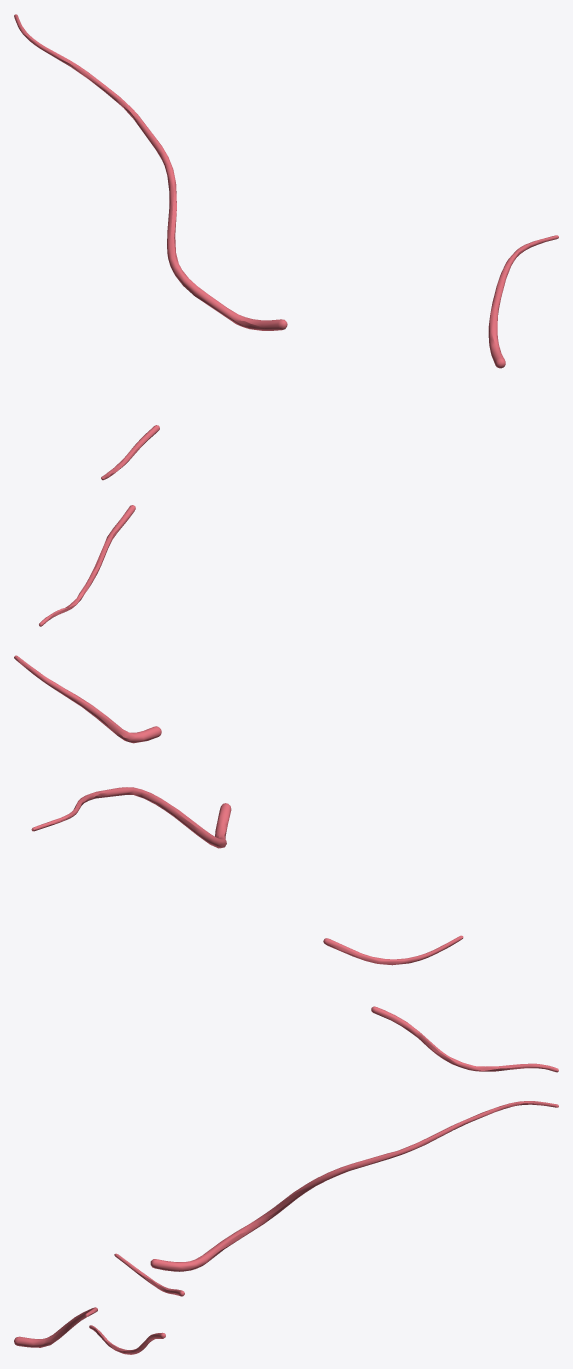
File: fma70445_fj3115.glb
The picture shows the model from 3 angles, top to bottom: view 1: azimuth 30°, elevation 25°; view 2: azimuth 150°, elevation 25°; view 3: azimuth 270°, elevation 25°; orthographic projection. The views are drawn at different scales.
Parts seen in each view (by area): view 1: FMA70445_FJ3115; view 2: FMA70445_FJ3115; view 3: FMA70445_FJ3115.
Boxes of the visible parts, bbox=[...] form: FMA70445_FJ3115: bbox=[14, 14, 558, 626]; FMA70445_FJ3115: bbox=[14, 655, 558, 1072]; FMA70445_FJ3115: bbox=[14, 1101, 558, 1354].
Size of the model in its own units: 0.0849 by 0.0573 by 0.0864.
